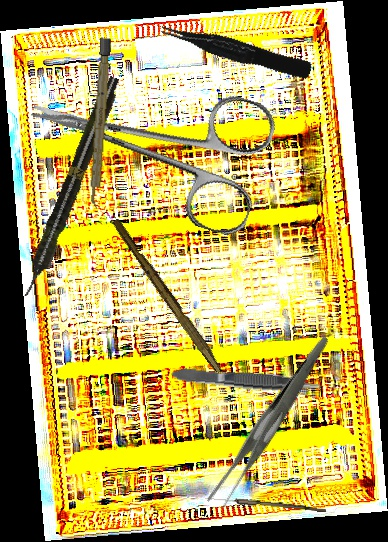Dressing Forceps: (171, 335, 371, 514)
Handpiece: (16, 73, 125, 301)
Iris Scissors: (14, 40, 281, 240)
Scalpel Handle: (108, 217, 227, 374), (88, 37, 112, 210)
Surgical Spoon: (204, 495, 327, 513)
Tissue Forceps: (158, 12, 314, 87), (170, 362, 327, 399)
